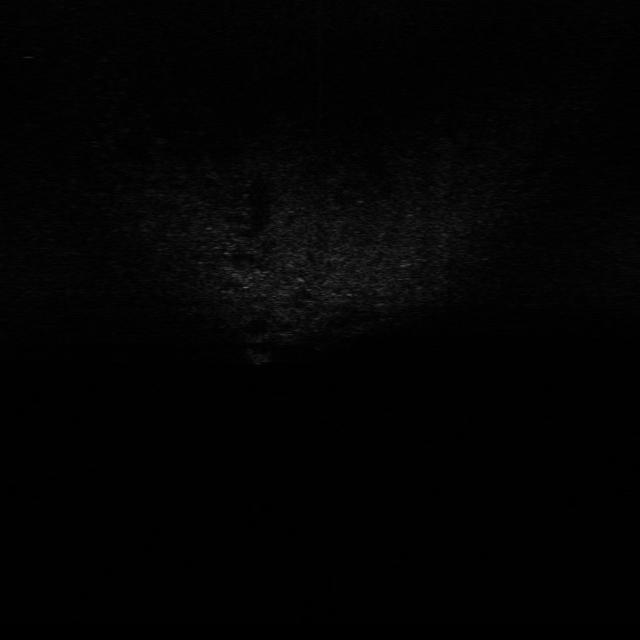cube: (246, 342, 274, 368)
